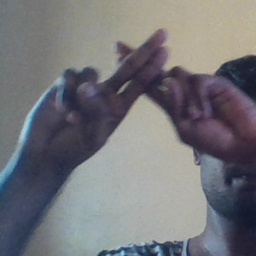F: (83, 21, 203, 137)
